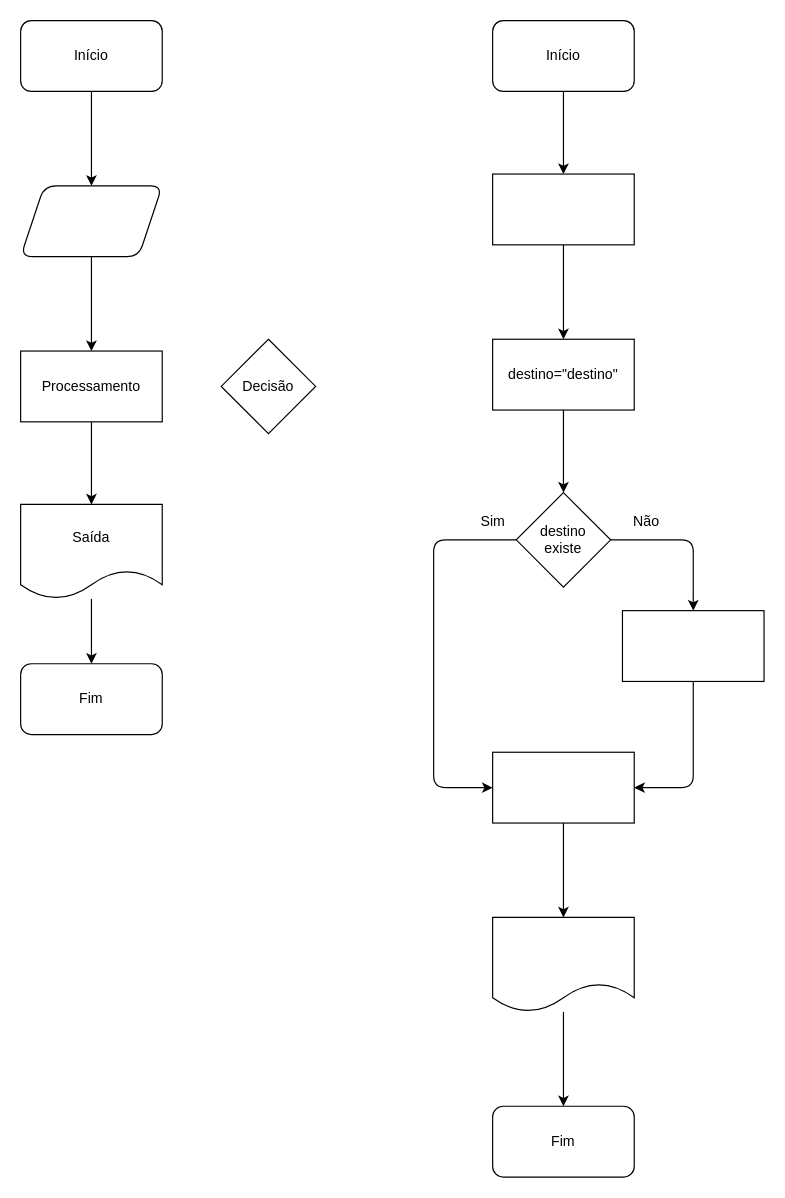
The diagram is 785 pixels wide and 1198 high, and some of its shapes have lost their labels. The centre of each missing label's shape, as x and y in pixels:
Arquivos copiados com sucesso: [562,964]
Copia arquivos .txt de origem para destino: [562,787]
Cria diretório destino: [692,645]
Entrada: [90,221]
origem="origem": [562,209]
